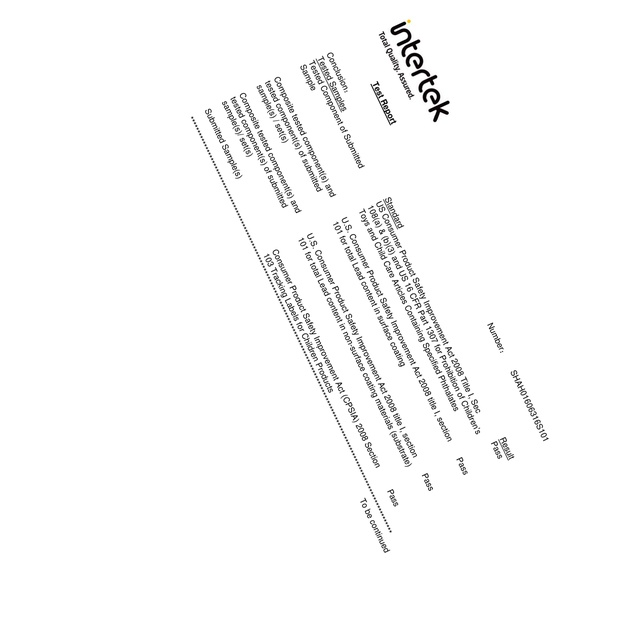intertek: (389, 19, 454, 127)
